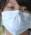with_mask: (1, 1, 31, 35)
